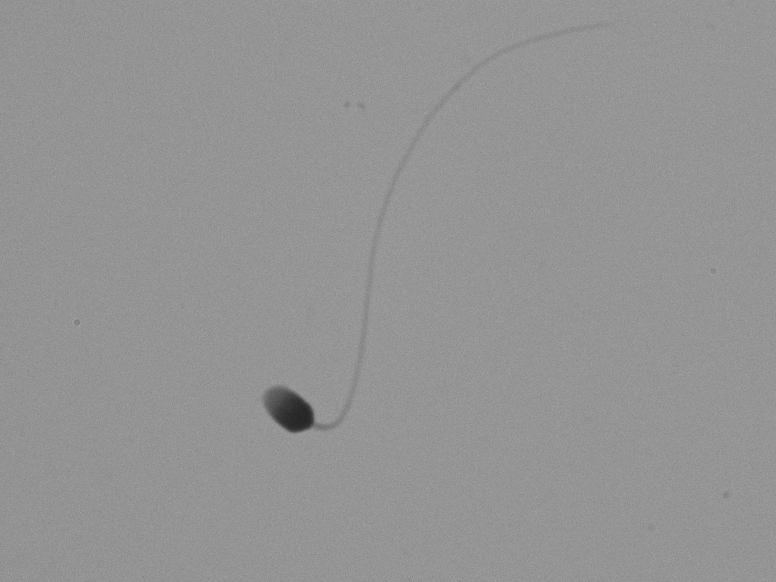Normal: (219, 19, 599, 477)
